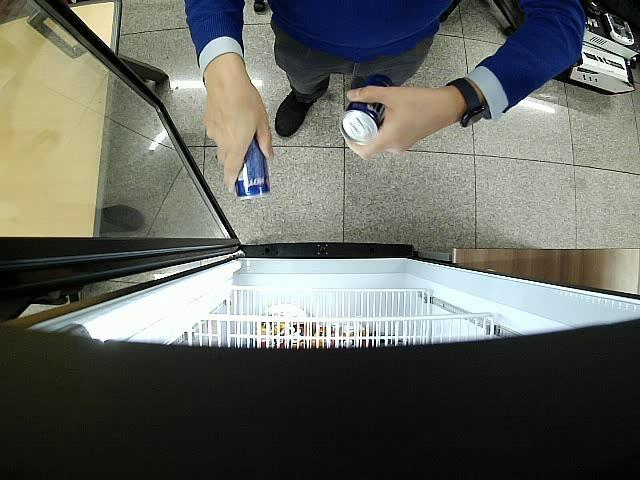16_hot6: (338, 74, 396, 144), (234, 137, 270, 200)
